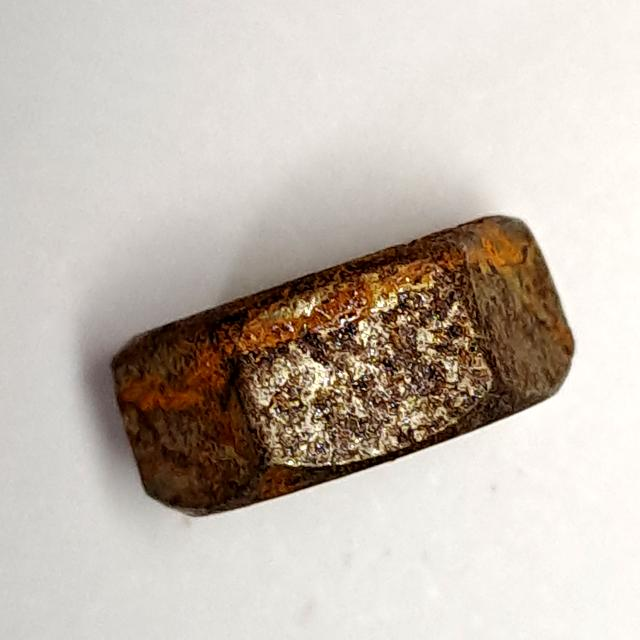Side_Rust: (100, 199, 586, 527)
